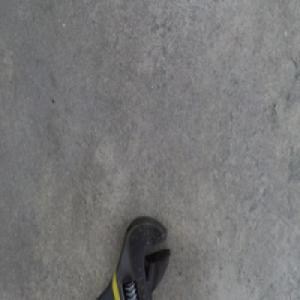AdjustableWrench: (98, 217, 171, 299)
